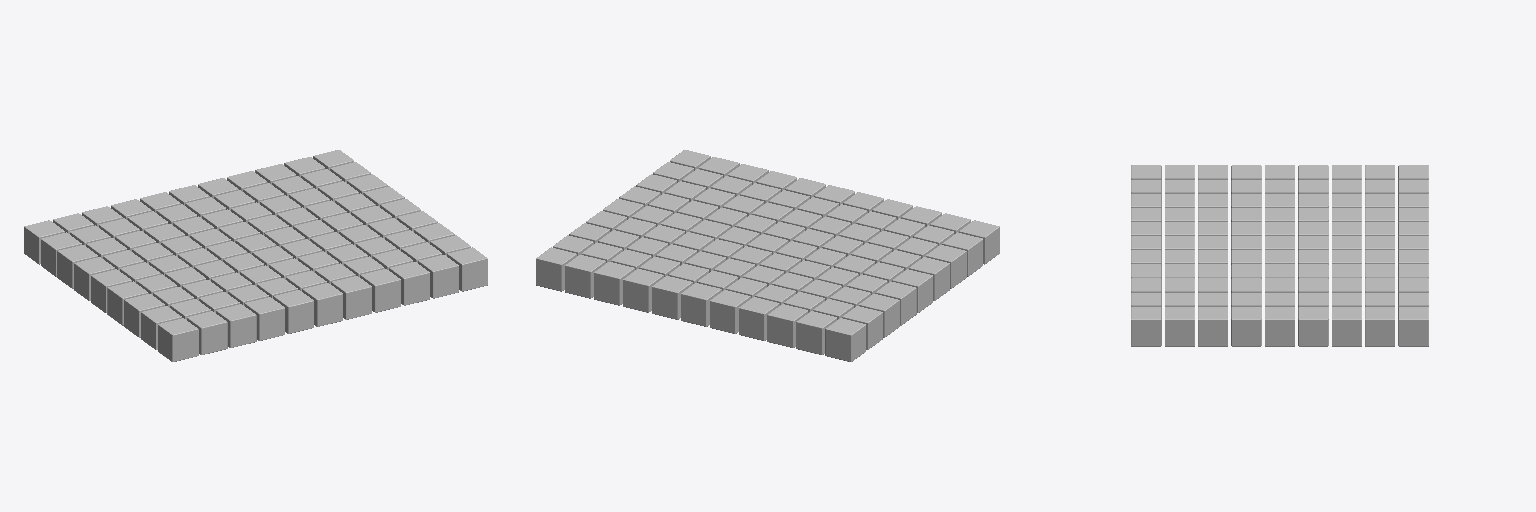
Rendered from mainfloor.obj.
3 renders of one model, left to right at view 1: azimuth 30°, elevation 25°; view 2: azimuth 150°, elevation 25°; view 3: azimuth 270°, elevation 25°, orthographic.
Visible parts, largest first — view 1: Cube_Cube.002; view 2: Cube_Cube.002; view 3: Cube_Cube.002.
Part boxes in pixels (left/top/right/bottom): Cube_Cube.002: left=24, top=150, right=487, bottom=361; Cube_Cube.002: left=536, top=150, right=999, bottom=361; Cube_Cube.002: left=1131, top=165, right=1428, bottom=346.
Bounding box in the file's own units: 72 × 6 × 58.8.